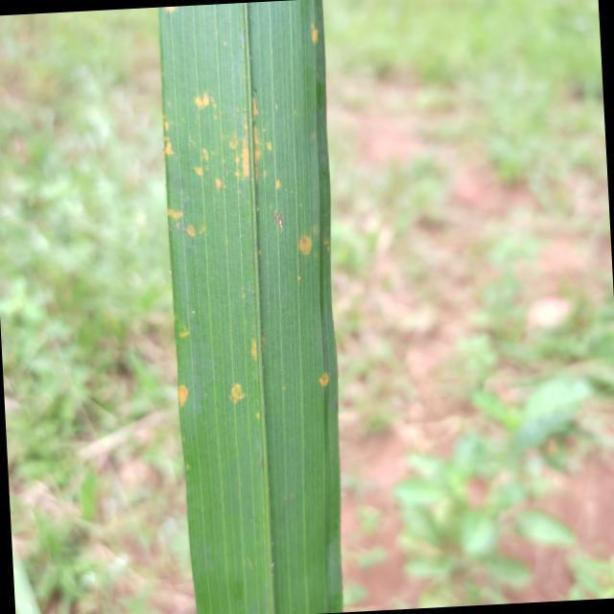Kalium: (157, 0, 337, 614)
